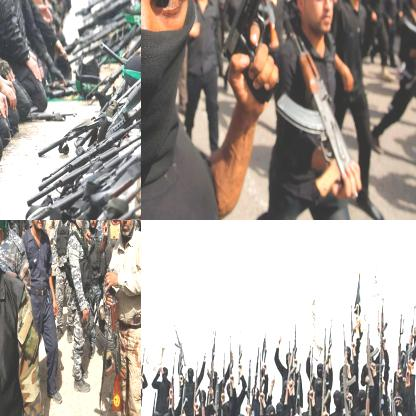pistol: (222, 0, 282, 105)
rifle: (277, 11, 351, 201), (37, 48, 140, 171), (12, 123, 140, 219), (24, 143, 140, 219), (361, 325, 381, 415), (340, 328, 357, 415), (402, 307, 415, 385), (242, 357, 258, 415), (359, 371, 378, 415), (387, 375, 402, 415), (79, 220, 97, 242)
